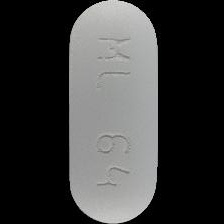61919-741: (0, 0, 224, 224)
